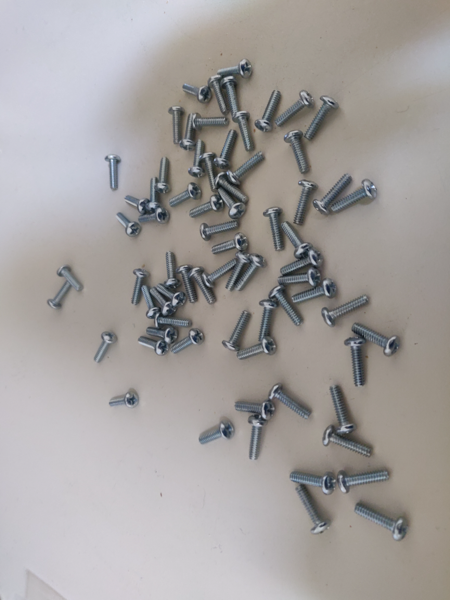shortscrew: (354, 503, 409, 542), (295, 484, 331, 535), (323, 425, 374, 459), (351, 323, 401, 357), (313, 174, 353, 216), (304, 96, 340, 141), (331, 179, 378, 213), (322, 295, 369, 328), (268, 384, 311, 420), (268, 285, 304, 327), (329, 385, 358, 436), (276, 90, 314, 128), (227, 152, 267, 185), (338, 470, 390, 495), (222, 310, 252, 352), (235, 254, 268, 292), (281, 221, 314, 259), (214, 172, 250, 205), (292, 278, 337, 304), (293, 180, 319, 225), (284, 130, 310, 174), (255, 90, 282, 132), (290, 472, 337, 496), (202, 259, 239, 289), (345, 337, 367, 387), (189, 267, 217, 305), (226, 252, 251, 292), (263, 207, 285, 252), (237, 336, 277, 360), (214, 129, 238, 169), (217, 187, 246, 220), (248, 415, 269, 460), (233, 111, 255, 152), (176, 265, 199, 304), (200, 220, 240, 242), (208, 75, 230, 115), (170, 329, 205, 354), (199, 421, 235, 445), (259, 299, 279, 342), (189, 195, 225, 218), (169, 183, 202, 208), (212, 233, 249, 255), (150, 288, 178, 317), (235, 401, 275, 421), (156, 284, 187, 309), (94, 331, 117, 364), (131, 269, 151, 306), (57, 265, 84, 292), (188, 140, 207, 178), (217, 59, 253, 79), (182, 83, 213, 105), (142, 286, 162, 320), (116, 212, 142, 238), (200, 153, 217, 192), (168, 106, 185, 145), (220, 78, 239, 112), (48, 282, 71, 310), (164, 252, 181, 289), (180, 114, 197, 151), (192, 114, 229, 131), (138, 337, 171, 356), (154, 313, 193, 329), (146, 327, 179, 345), (155, 157, 171, 194), (105, 154, 121, 191), (145, 178, 161, 212), (139, 208, 170, 225), (125, 196, 151, 216), (109, 392, 139, 409)
